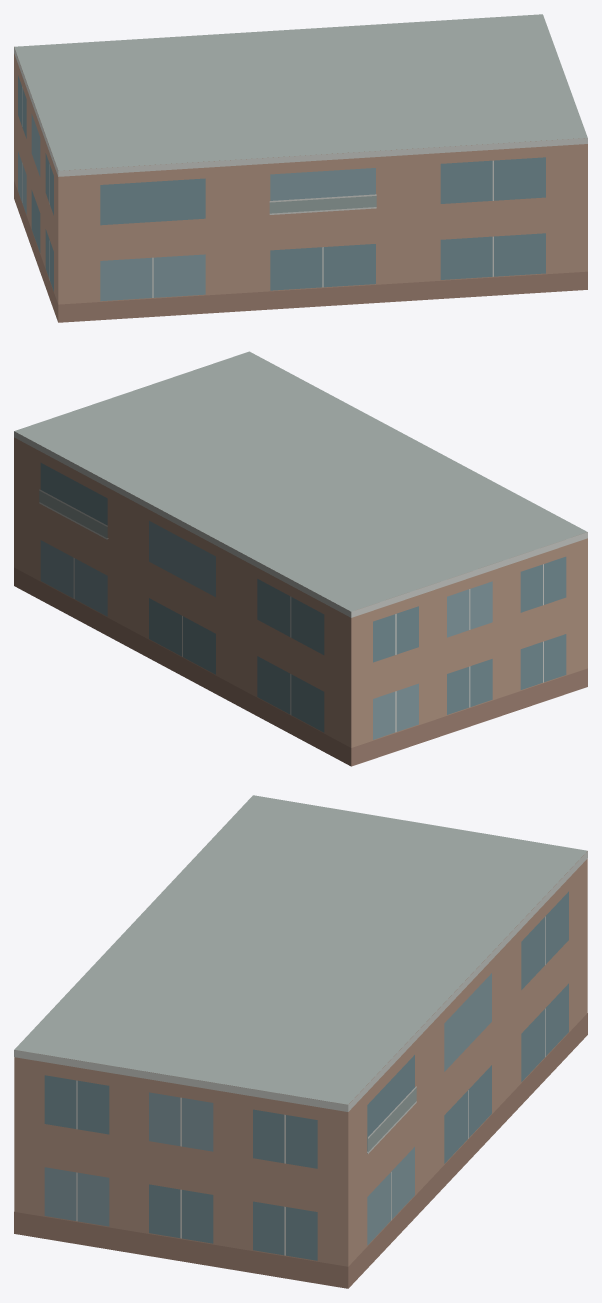
The model's file is survey-upis-32513097.glb.
The picture shows the model from 3 angles, top to bottom: view 1: azimuth 30°, elevation 25°; view 2: azimuth 150°, elevation 25°; view 3: azimuth 270°, elevation 25°; orthographic projection. The views are drawn at different scales.
Visible parts, largest first — view 1: survey-upis-32513097.tmp; view 2: survey-upis-32513097.tmp; view 3: survey-upis-32513097.tmp.
Boxes of the visible parts, x1,y1,x2,y2 form: survey-upis-32513097.tmp: (14, 14, 587, 322); survey-upis-32513097.tmp: (14, 351, 587, 766); survey-upis-32513097.tmp: (14, 795, 587, 1288).
Size of the model in its own units: 22.02 by 6.1 by 17.25.
